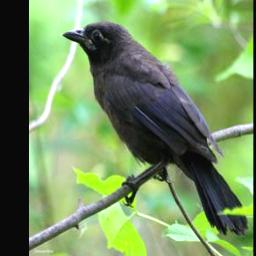Crow: (62, 19, 250, 237)
